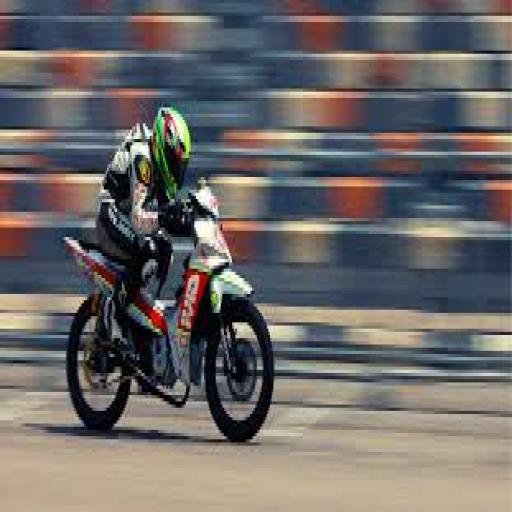helmet: (59, 174, 275, 442), (150, 101, 192, 199)
